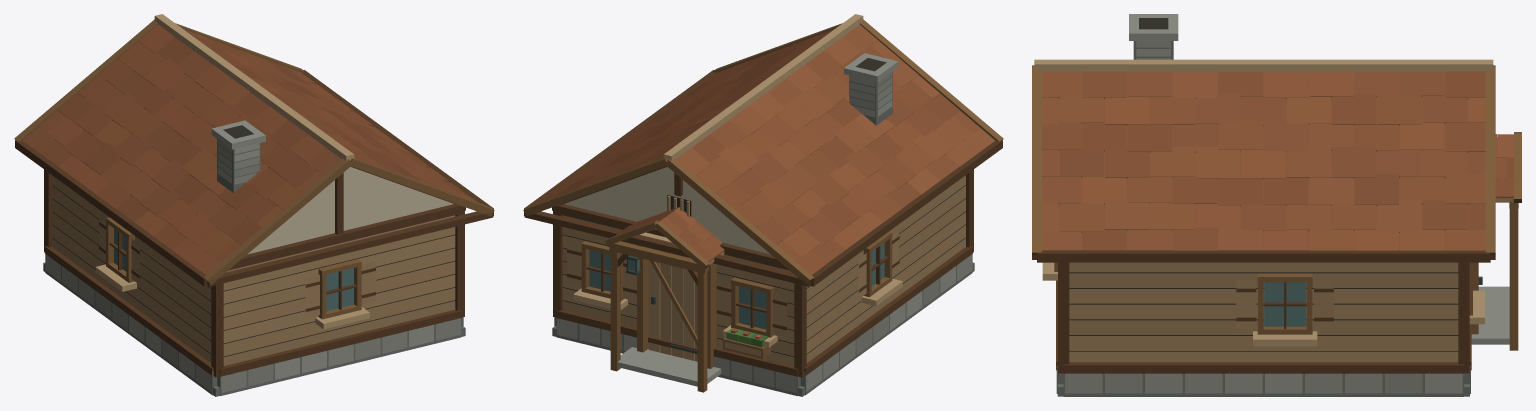
The model's file is LogCabin.glb.
3 views of the same model, side by side, from view 1: azimuth 30°, elevation 25°; view 2: azimuth 150°, elevation 25°; view 3: azimuth 270°, elevation 25° (orthographic). The views are drawn at different scales.
Parts seen in each view (by area): view 1: LogCabin_Body, HouseGlass; view 2: LogCabin_Body, HouseDoor, HouseGlass; view 3: LogCabin_Body, HouseGlass.
Part boxes in pixels (x1,y1,x2,y2): LogCabin_Body: (14,14,494,396); HouseGlass: (114,228,353,311); LogCabin_Body: (523,14,1003,396); HouseDoor: (648,248,697,361); HouseGlass: (589,242,884,329); LogCabin_Body: (1032,14,1521,396); HouseGlass: (1264,282,1305,326).
Bounding box in the file's own units: 6 × 4.36 × 7.35.
